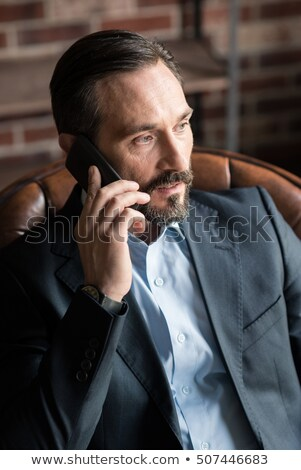phone: (58, 147, 143, 222)
talk: (63, 107, 198, 273)
